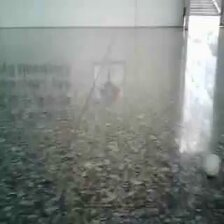w: (201, 153, 221, 178)
